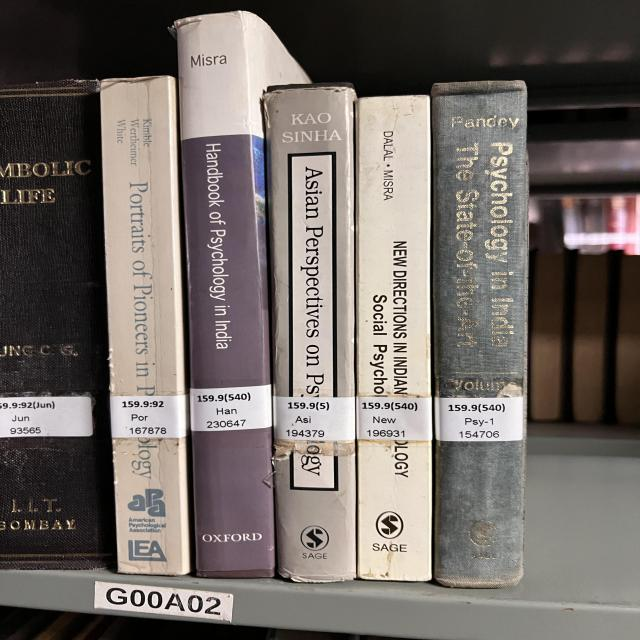Book: (0, 80, 115, 570), (432, 81, 528, 588), (263, 85, 357, 582), (100, 76, 190, 575), (182, 135, 275, 578), (357, 96, 433, 580)
Label: (435, 396, 523, 441), (0, 396, 93, 438), (190, 385, 272, 431), (273, 396, 355, 441), (357, 396, 432, 441), (110, 395, 187, 438)
